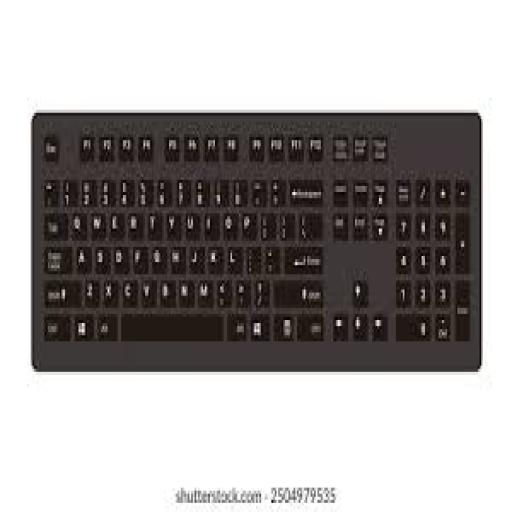KEYBOARD-2: (29, 110, 481, 369)
